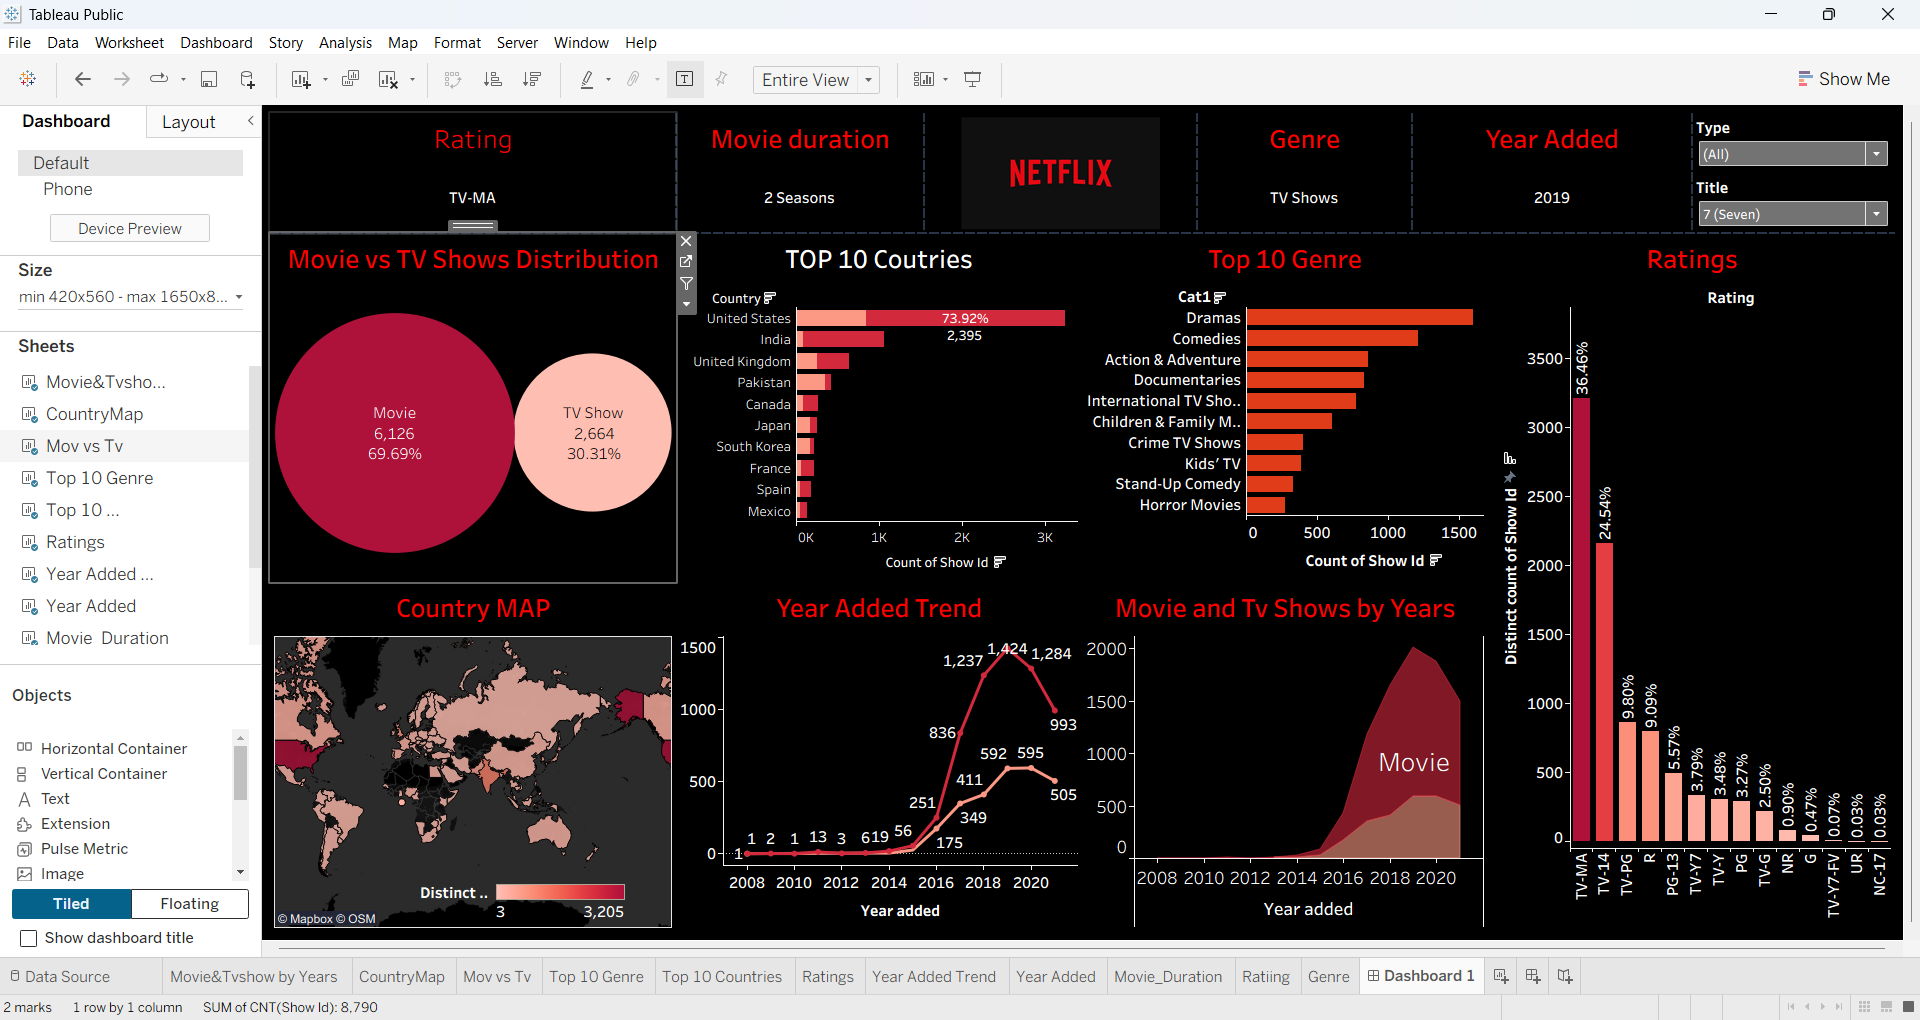

This screenshot's page, from the dashboard's own definition file:
{"tool":"tableau","page":{"name":"Dashboard 1","canvas":[1000,1000],"units":"permille","ordinal":0},"visuals":[{"type":"worksheet","title":"Ratiing","mark":"Automatic","box":[4.9,9.6,247.5,143.6]},{"type":"worksheet","title":"Movie_Duration","mark":"Automatic","box":[252.4,9.6,151,143.6]},{"type":"image","param":"C:/Users/STEVE/OneDrive/Desktop/Capstone Project/Tableau/Net.jpg","box":[403.4,9.6,166.4,143.6]},{"type":"worksheet","title":"Genre","mark":"Automatic","box":[569.7,9.6,131,143.6]},{"type":"worksheet","title":"Year Added","mark":"Automatic","box":[700.7,9.6,170.6,143.6]},{"type":"filter","title":"Year Added","param":"[federated.06cyv3212tx93g165z1t10a8hyif].[none:type:nk]","box":[871.3,9.6,123.8,71.8]},{"type":"filter","title":"Genre","param":"[federated.06cyv3212tx93g165z1t10a8hyif].[none:title:nk]","box":[871.3,81.4,123.8,71.8]},{"type":"worksheet","title":"Mov vs Tv","mark":"Circle","box":[4.9,153.2,247.5,418.6]},{"type":"worksheet","title":"Top 10 Countries","mark":"Automatic","rows":["country"],"cols":["show_id"],"box":[252.4,153.2,247.6,418.6]},{"type":"worksheet","title":"Top 10 Genre","mark":"Automatic","rows":["Cat1"],"cols":["show_id"],"box":[500,153.2,247.5,418.6]},{"type":"worksheet","title":"Ratings","mark":"Automatic","rows":["show_id"],"cols":["rating"],"box":[747.5,153.2,247.6,837.2]},{"type":"worksheet","title":"CountryMap","mark":"Automatic","box":[4.9,571.8,247.5,418.6]},{"type":"worksheet","title":"Year Added Trend","mark":"Automatic","rows":["show_id"],"cols":["Year_added"],"box":[252.4,571.8,247.6,418.6]},{"type":"worksheet","title":"Movie&Tvshow by Years","mark":"Area","rows":["show_id"],"cols":["Year_added"],"box":[500,571.8,247.5,418.6]},{"type":"legend","title":"Ratings","param":"[federated.06cyv3212tx93g165z1t10a8hyif].[ctd:show_id:qk]","box":[96.3,928.1,127.4,50.3]}]}

Visuals, with their boxes on the dashboard's canvas, which has no fixed pixel size, in thousandths of its width and height (x1, y1, x2, y2). These are canvas units, not pixel positions in the 1920x1020 screenshot, which may show the page scaled, cropped or inside an application window:
"Ratiing" worksheet: select_region(5, 10, 252, 153)
"Movie_Duration" worksheet: select_region(252, 10, 403, 153)
image: select_region(403, 10, 570, 153)
"Genre" worksheet: select_region(570, 10, 701, 153)
"Year Added" worksheet: select_region(701, 10, 871, 153)
"Year Added" filter: select_region(871, 10, 995, 81)
"Genre" filter: select_region(871, 81, 995, 153)
"Mov vs Tv" worksheet (Circle marks): select_region(5, 153, 252, 572)
"Top 10 Countries" worksheet: select_region(252, 153, 500, 572)
"Top 10 Genre" worksheet: select_region(500, 153, 748, 572)
"Ratings" worksheet: select_region(748, 153, 995, 990)
"CountryMap" worksheet: select_region(5, 572, 252, 990)
"Year Added Trend" worksheet: select_region(252, 572, 500, 990)
"Movie&Tvshow by Years" worksheet (Area marks): select_region(500, 572, 748, 990)
"Ratings" legend: select_region(96, 928, 224, 978)
